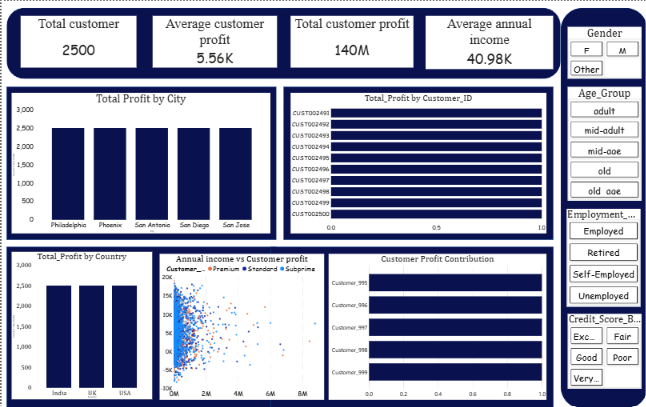

What the dashboard file says about the page in this screenshot:
{"tool":"powerbi","page":{"name":"Page 2Customer Profitability & Intelligence","canvas":[3800,2400],"ordinal":1},"visuals":[{"type":"shape","box":[31.8,40.9,3259.1,418.2],"z":4000},{"type":"shape","box":[1659.1,504.5,1586.4,900],"z":5000},{"type":"shape","box":[31.8,1445.5,1586.4,954.5],"z":6000},{"type":"shape","box":[31.8,504.5,1586.4,900],"z":7000},{"type":"shape","box":[1581.8,1445.5,1663.6,954.5],"z":8000},{"type":"card","title":"Total customer","fields":{"Values":["fintech_banking_analytics banking_data.Total customer"]},"box":[113.6,90.9,681.8,304.5],"z":9000},{"type":"card","title":"Average annual income ","fields":{"Values":["Avg(fintech_banking_analytics banking_data.Annual_Income)"]},"box":[2495.5,90.9,750,313.6],"z":10000},{"type":"card","title":"Total customer profit ","fields":{"Values":["Sum(fintech_banking_analytics banking_data.Customer_Profit)"]},"box":[1700,90.9,722.7,304.5],"z":11000},{"type":"card","title":"Average customer profit ","fields":{"Values":["Avg(fintech_banking_analytics banking_data.Customer_Profit)"]},"box":[886.4,90.9,731.8,304.5],"z":12000},{"type":"columnChart","title":" Total Profit by City","fields":{"Y":["CountNonNull(fintech_banking_analytics customer_summary.Total_Profit)"],"Category":["fintech_banking_analytics banking_data.City"]},"box":[59.1,540.9,1522.7,827.3],"z":13000},{"type":"clusteredBarChart","title":" Total_Profit by Customer_ID","fields":{"Category":["fintech_banking_analytics customer_summary.Customer_ID"],"Y":["CountNonNull(fintech_banking_analytics customer_summary.Total_Profit)"]},"box":[1700,540.9,1504.5,827.3],"z":14000},{"type":"clusteredColumnChart","title":"Total_Profit by Country","fields":{"Y":["CountNonNull(fintech_banking_analytics customer_summary.Total_Profit)"],"Category":["fintech_banking_analytics banking_data.Country"]},"box":[59.1,1477.3,827.3,868.2],"z":15000},{"type":"scatterChart","title":"Annual income vs Customer profit","fields":{"X":["Sum(fintech_banking_analytics banking_data.Annual_Income)"],"Y":["fintech_banking_analytics banking_data.Customer_Profit (bins)"],"Series":["fintech_banking_analytics banking_data.Customer_Segment"]},"box":[931.8,1486.4,968.2,859.1],"z":15001},{"type":"barChart","title":"Customer Profit Contribution","fields":{"Y":["fintech_banking_analytics banking_data.Customer Profit Contribution %"],"Category":["fintech_banking_analytics banking_data.Customer_Name"]},"box":[1922.7,1486.4,1281.8,859.1],"z":15002},{"type":"advancedSlicerVisual","fields":{"Values":["fintech_banking_analytics banking_data.Gender"]},"box":[3322.7,395.5,436.4,272.7],"z":15005},{"type":"shape","box":[3290.9,322.7,509.1,2077.3],"z":15006},{"type":"advancedSlicerVisual","fields":{"Values":["fintech_banking_analytics banking_data.Gender"]},"box":[3322.7,404.5,436.4,304.5],"z":15007},{"type":"advancedSlicerVisual","fields":{"Values":["fintech_banking_analytics banking_data.Age_Group"]},"box":[3322.7,745.5,436.4,618.2],"z":15008},{"type":"advancedSlicerVisual","fields":{"Values":["fintech_banking_analytics banking_data.Employment_Status"]},"box":[3327.3,1395.5,436.4,518.2],"z":15009},{"type":"advancedSlicerVisual","fields":{"Values":["fintech_banking_analytics banking_data.Credit_Score_Band"]},"box":[3327.3,1954.5,436.4,390.9],"z":15010}]}

Visuals, with their boxes in screenshot pixels (x1, y1, x2, y2), scaled from the page's 3800x2400 canvas onto the 646x407 screenshot:
shape: (5, 7, 559, 78)
shape: (282, 86, 552, 238)
shape: (5, 245, 275, 406)
shape: (5, 86, 275, 238)
shape: (269, 245, 552, 406)
"Total customer" card: (19, 15, 135, 67)
"Average annual income " card: (424, 15, 552, 69)
"Total customer profit " card: (289, 15, 412, 67)
"Average customer profit " card: (151, 15, 275, 67)
" Total Profit by City" columnChart: (10, 92, 269, 232)
" Total_Profit by Customer_ID" clusteredBarChart: (289, 92, 545, 232)
"Total_Profit by Country" clusteredColumnChart: (10, 251, 151, 398)
"Annual income vs Customer profit" scatterChart: (158, 252, 323, 398)
"Customer Profit Contribution" barChart: (327, 252, 545, 398)
advancedSlicerVisual - fintech_banking_analytics banking_data.Gender: (565, 67, 639, 113)
shape: (559, 55, 645, 406)
advancedSlicerVisual - fintech_banking_analytics banking_data.Gender: (565, 69, 639, 120)
advancedSlicerVisual - fintech_banking_analytics banking_data.Age_Group: (565, 126, 639, 231)
advancedSlicerVisual - fintech_banking_analytics banking_data.Employment_Status: (566, 237, 640, 325)
advancedSlicerVisual - fintech_banking_analytics banking_data.Credit_Score_Band: (566, 331, 640, 398)
